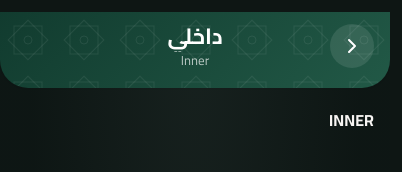
Test case: Back buttons actually go back › inner page opened directly: Back falls back to Home (never a dead button)
The image size is (402, 172).
What coordinates should you click on to do the following:
click the button with test id "page-back"
I would click on:
 (352, 46)
Its box is left=330, top=24, right=374, bottom=68.
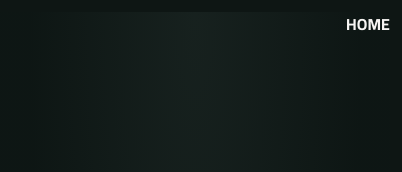
Check: the text "HOME" is shown, box left=346, top=12, right=390, bottom=39
